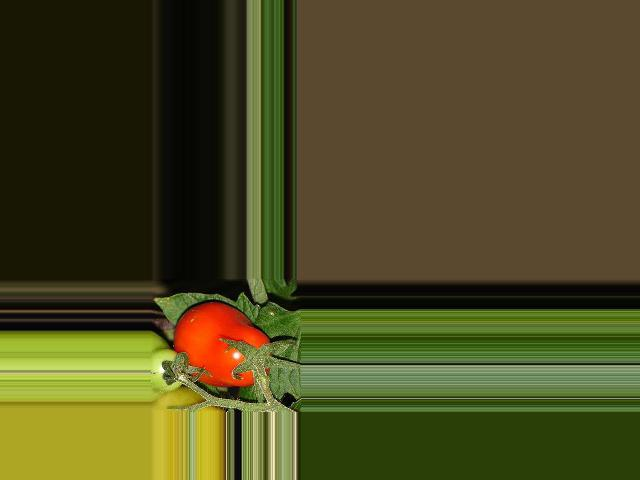tomato: (174, 301, 272, 386)
